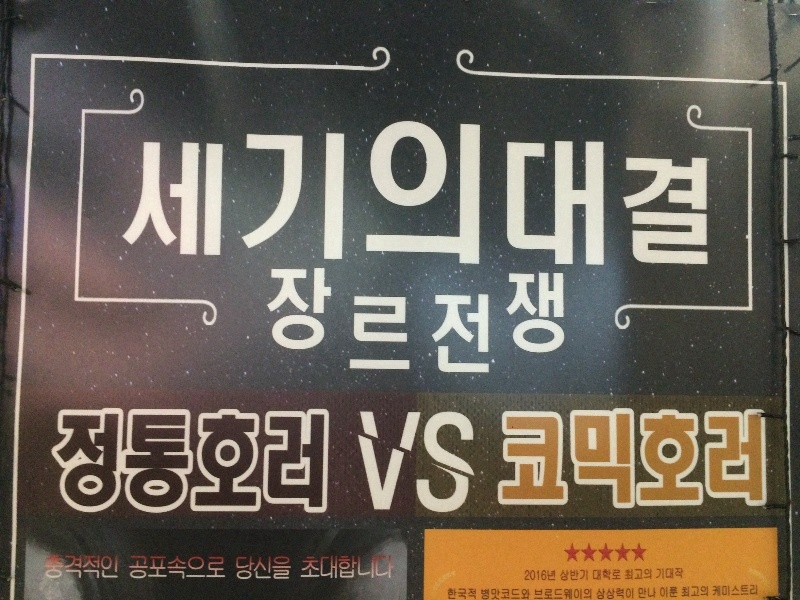text: (145, 111, 160, 272), (161, 111, 176, 272), (177, 111, 192, 272), (193, 111, 208, 272), (209, 111, 224, 272), (225, 111, 240, 272), (241, 111, 256, 272), (257, 111, 272, 272), (273, 111, 288, 272), (289, 111, 304, 272), (305, 111, 320, 272), (321, 111, 336, 272), (337, 111, 352, 272), (353, 111, 368, 272), (369, 111, 384, 272), (385, 111, 400, 272), (401, 111, 416, 272), (417, 111, 432, 272), (433, 111, 448, 272), (449, 111, 464, 272), (465, 111, 480, 272), (481, 111, 496, 272), (497, 111, 512, 272), (513, 111, 528, 272), (529, 111, 544, 272), (545, 111, 560, 272), (561, 111, 576, 272), (577, 111, 592, 272), (593, 111, 608, 272), (609, 111, 624, 272), (625, 111, 640, 272), (641, 111, 656, 272), (657, 111, 672, 272), (673, 111, 688, 272), (689, 111, 704, 272), (65, 407, 80, 516), (81, 407, 96, 516), (97, 407, 112, 516), (113, 407, 128, 516), (129, 407, 144, 516), (145, 407, 160, 516), (161, 407, 176, 516), (177, 407, 192, 516), (193, 407, 208, 516), (209, 407, 224, 516), (225, 407, 240, 516), (241, 407, 256, 516), (257, 407, 272, 516), (273, 407, 288, 516), (289, 407, 304, 516), (305, 407, 320, 516), (369, 408, 384, 515), (385, 408, 400, 515), (401, 408, 416, 515), (417, 408, 432, 515), (433, 408, 448, 515), (449, 408, 464, 515), (513, 408, 528, 510), (529, 408, 544, 510), (545, 408, 560, 510), (561, 408, 576, 510), (577, 408, 592, 510), (593, 408, 608, 510), (609, 408, 624, 510), (625, 408, 640, 510), (641, 408, 656, 510), (657, 408, 672, 510), (673, 408, 688, 510), (689, 408, 704, 510), (705, 408, 720, 510), (721, 408, 736, 510), (737, 408, 752, 510), (354, 408, 368, 515), (753, 408, 767, 510), (52, 407, 64, 516), (465, 408, 477, 515), (273, 267, 288, 352), (289, 267, 304, 352), (305, 267, 320, 352), (353, 293, 368, 377), (369, 293, 384, 377), (385, 293, 400, 377), (401, 293, 416, 377), (417, 293, 432, 377), (433, 293, 448, 377), (449, 293, 464, 377), (465, 293, 480, 377), (513, 271, 528, 355), (529, 271, 544, 355), (545, 271, 560, 355), (705, 111, 712, 272), (321, 267, 334, 352), (502, 408, 512, 510), (321, 407, 329, 516), (481, 293, 491, 377), (505, 271, 512, 355), (129, 554, 144, 583), (145, 554, 160, 583), (161, 554, 176, 583), (177, 554, 192, 583), (193, 554, 208, 583), (209, 554, 224, 583), (267, 267, 272, 352), (49, 554, 64, 582), (65, 554, 80, 582), (81, 554, 96, 582), (97, 554, 112, 582), (241, 555, 256, 583), (257, 555, 272, 583), (273, 555, 288, 583), (561, 271, 566, 355), (305, 555, 320, 582), (321, 555, 336, 582), (337, 555, 352, 582), (353, 555, 368, 582), (369, 555, 384, 582), (385, 555, 395, 582), (721, 584, 736, 598), (737, 584, 752, 598), (561, 569, 576, 583), (449, 588, 464, 600), (481, 588, 496, 600), (497, 588, 512, 600), (513, 588, 528, 600), (545, 588, 560, 600), (561, 588, 576, 600), (577, 588, 592, 600), (609, 588, 624, 600), (641, 587, 656, 599), (689, 586, 704, 598), (625, 569, 640, 581), (657, 568, 672, 580), (113, 554, 119, 582), (529, 571, 544, 582), (593, 570, 608, 581), (143, 111, 144, 272), (660, 586, 672, 599), (577, 569, 588, 583), (465, 588, 477, 600), (235, 555, 240, 583), (597, 588, 608, 600), (609, 570, 621, 581), (641, 569, 652, 581), (673, 568, 684, 580), (545, 571, 556, 582), (534, 588, 544, 600), (44, 554, 48, 582), (289, 555, 293, 583), (712, 584, 720, 598), (625, 588, 634, 600), (681, 586, 688, 598), (301, 555, 304, 582), (753, 584, 758, 598), (673, 586, 678, 599), (225, 554, 227, 583), (524, 571, 528, 582), (705, 586, 708, 598), (638, 587, 640, 599), (529, 588, 530, 600), (655, 568, 656, 580)
